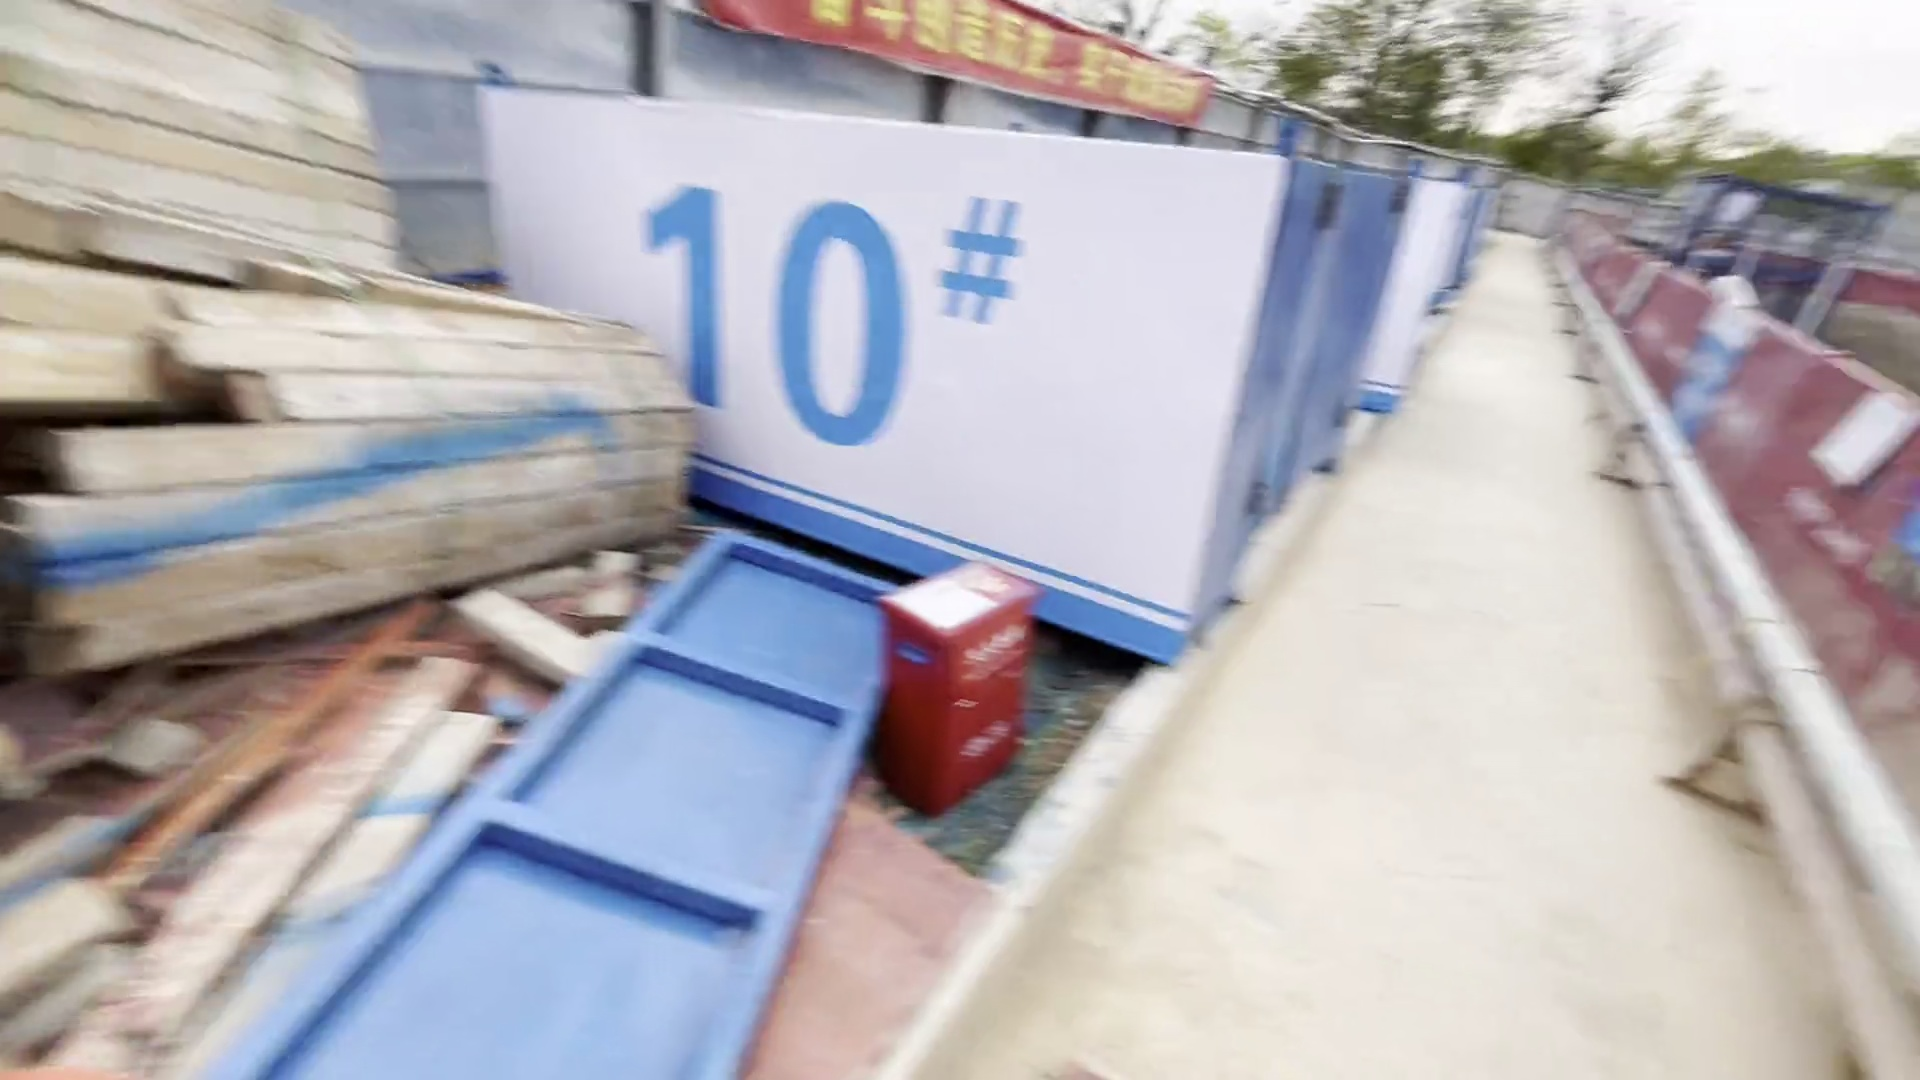slogan: (673, 9, 1244, 135)
wood: (12, 13, 698, 601)
